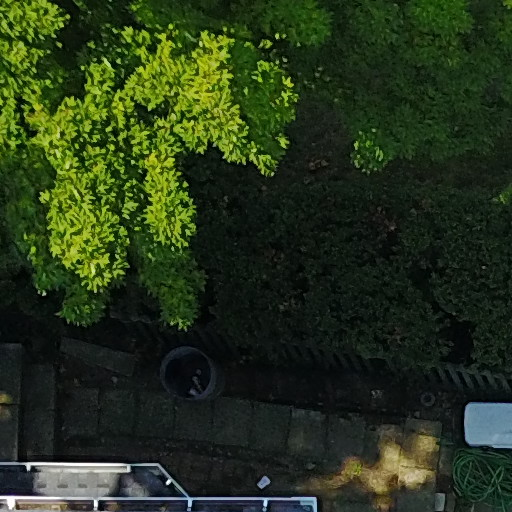container: (156, 336, 253, 418)
